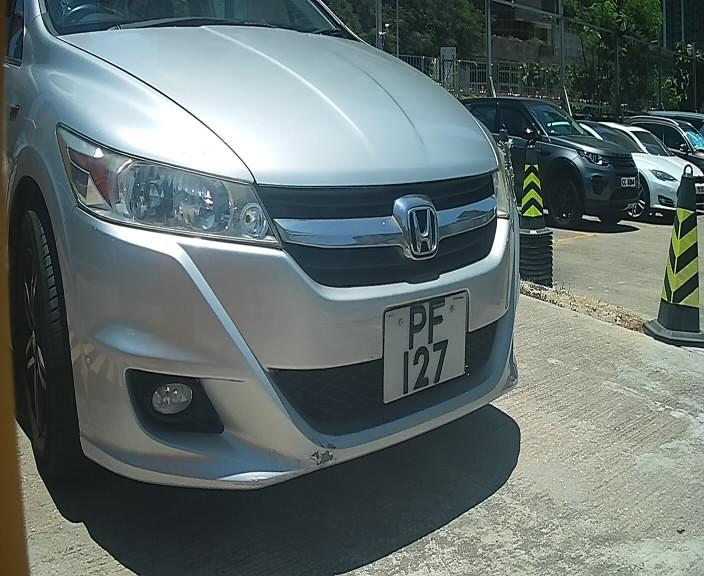privatecar: (10, 16, 541, 517)
